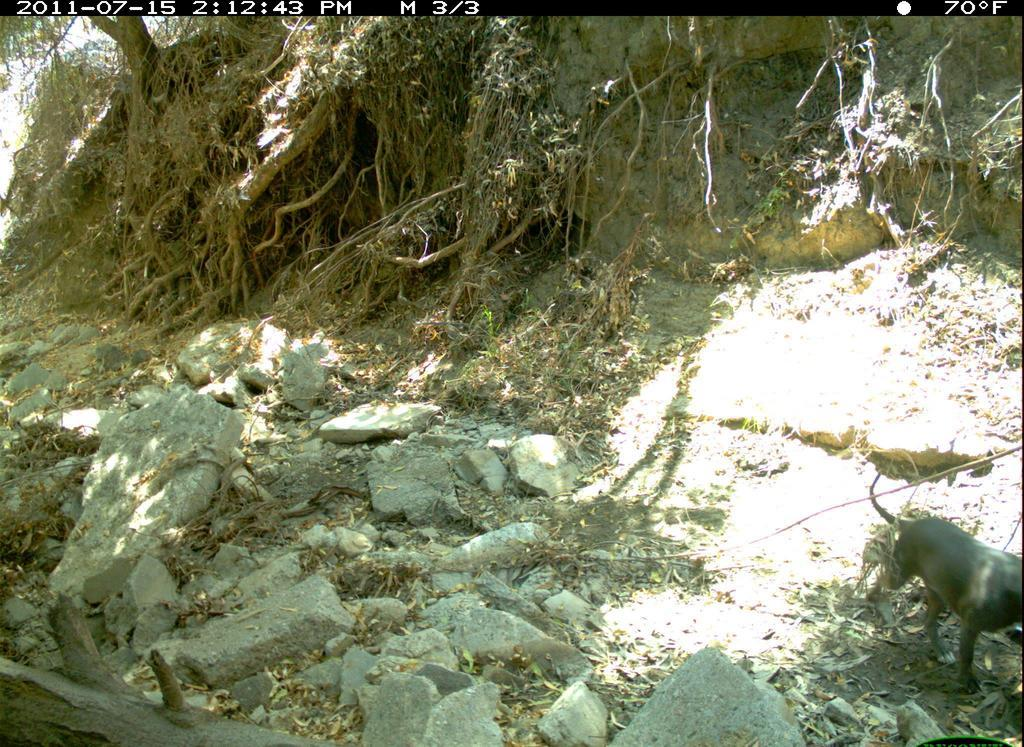dog: (852, 465, 1021, 694)
